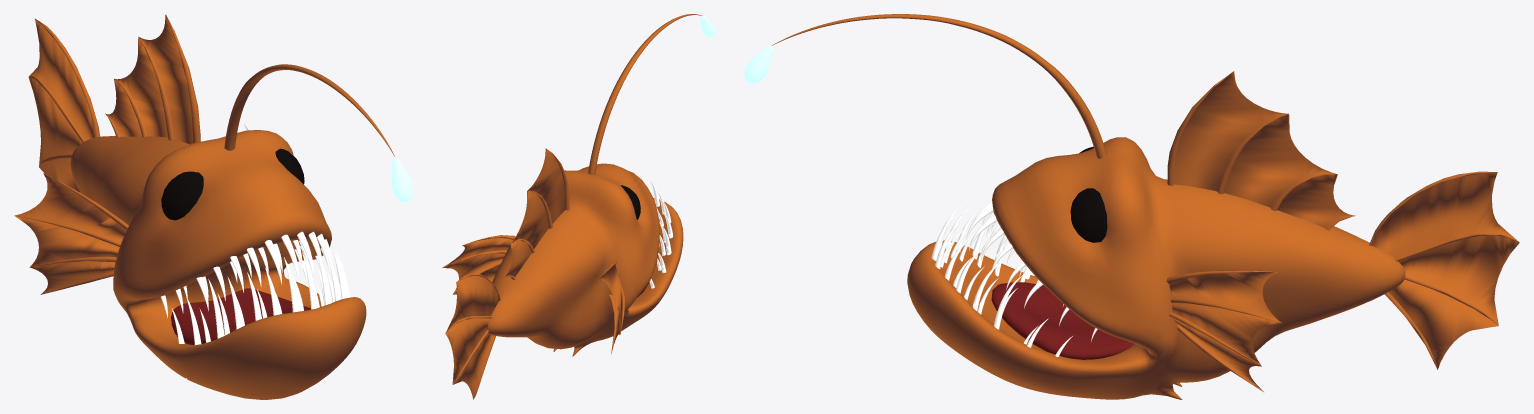
The model's file is anglerfish.glb.
3 views of the same model, side by side, from view 1: azimuth 30°, elevation 25°; view 2: azimuth 150°, elevation 25°; view 3: azimuth 270°, elevation 25° (orthographic). The views are drawn at different scales.
Parts seen in each view (by area): view 1: Object_6, Object_8, Object_2, Object_4, Object_3; view 2: Object_6, Object_8, Object_3; view 3: Object_6, Object_2, Object_8, Object_4, Object_3.
Boxes of the visible parts, left/top/right/bottom form: Object_6: left=14, top=14, right=394, bottom=399; Object_8: left=161, top=231, right=350, bottom=378; Object_2: left=171, top=288, right=310, bottom=344; Object_4: left=161, top=148, right=304, bottom=220; Object_3: left=391, top=156, right=413, bottom=202; Object_6: left=442, top=14, right=702, bottom=399; Object_8: left=639, top=175, right=672, bottom=288; Object_3: left=700, top=15, right=715, bottom=37; Object_6: left=772, top=14, right=1519, bottom=399; Object_2: left=991, top=282, right=1134, bottom=359; Object_8: left=931, top=202, right=1097, bottom=356; Object_4: left=1070, top=146, right=1107, bottom=242; Object_3: left=744, top=45, right=773, bottom=83.
Bounding box in the file's own units: 1.5 × 2.11 × 3.92.
